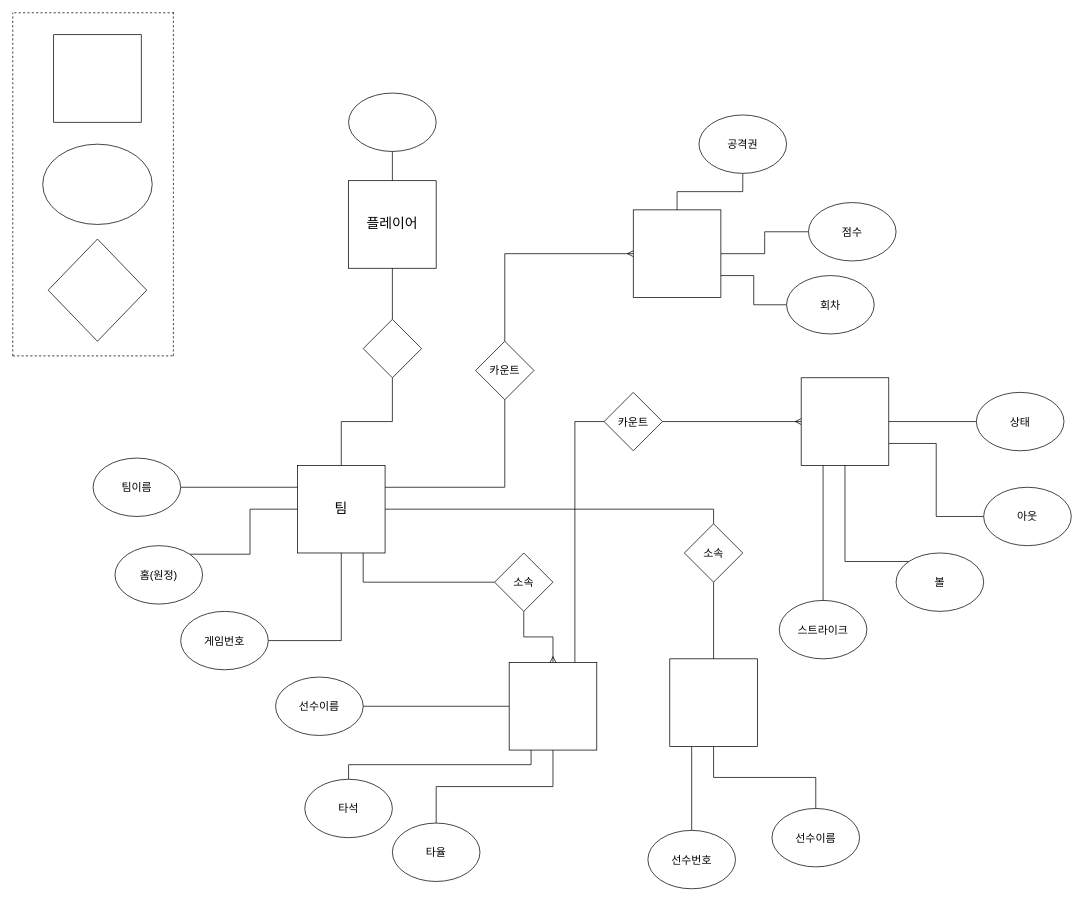
Some shapes in this 1084 by 902 pixel diagram are drawn without their labels. Here are the shapes that lost their labels. From the top down, the centre of each, then its label:
point 97,78: Entity
point 392,121: 아이디
point 97,183: Attribute
point 677,253: 스코어보드
point 97,289: Relation
point 392,348: 선택
point 844,421: 볼카운트
point 552,706: 타자
point 713,702: 투수
